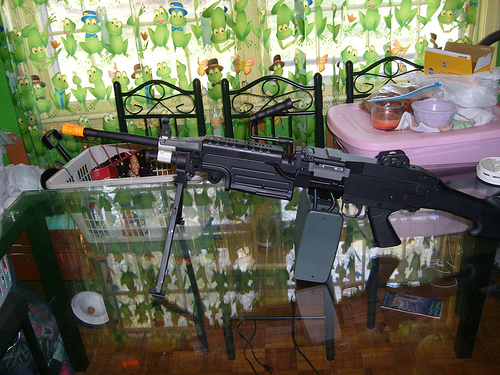rifle: (68, 116, 493, 280)
